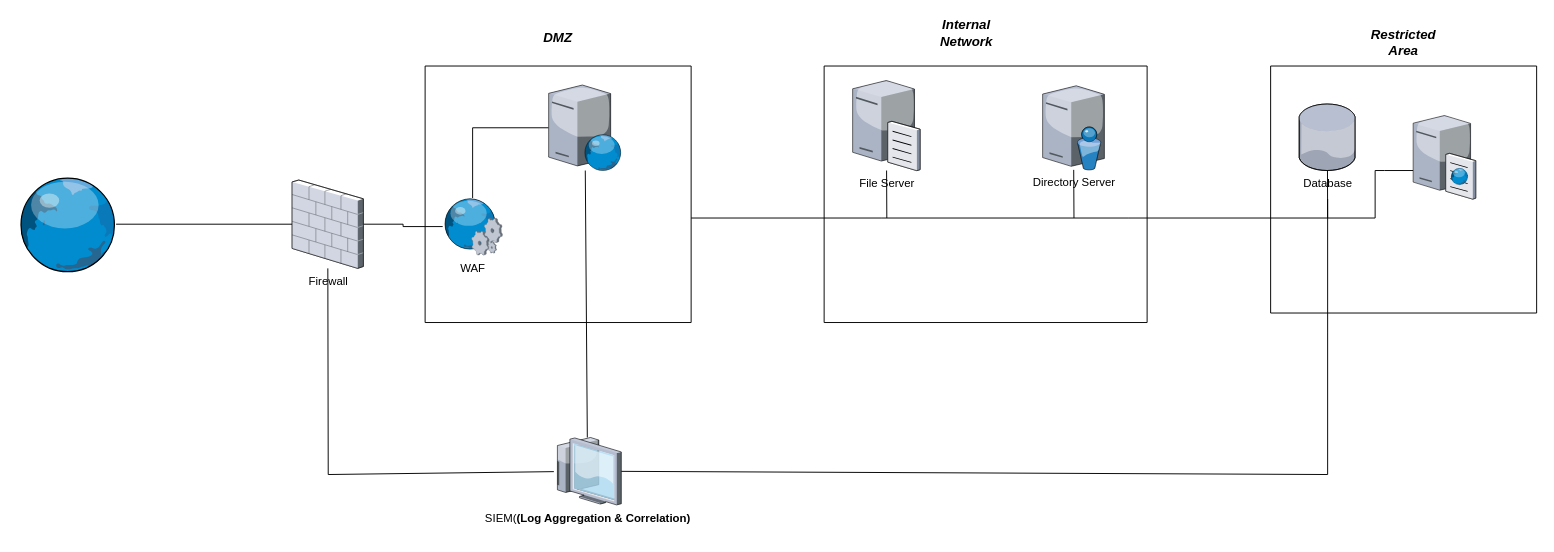
The diagram is 1554 pixels wide and 552 high, and some of its shapes have lost their labels. Here are the shapes that lost their labels. From the top down, the centre of each, then its label:
point 584,127: Web Server
point 1444,156: FTP Server
point 66,223: Internet
